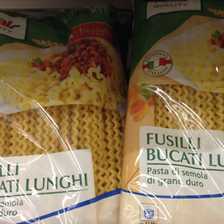pasta: (1, 10, 127, 224), (122, 2, 223, 224)
